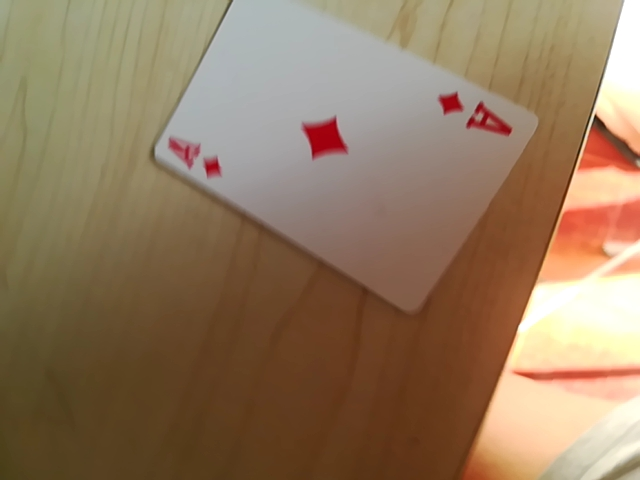fk a: (433, 90, 514, 144), (157, 132, 225, 183)
